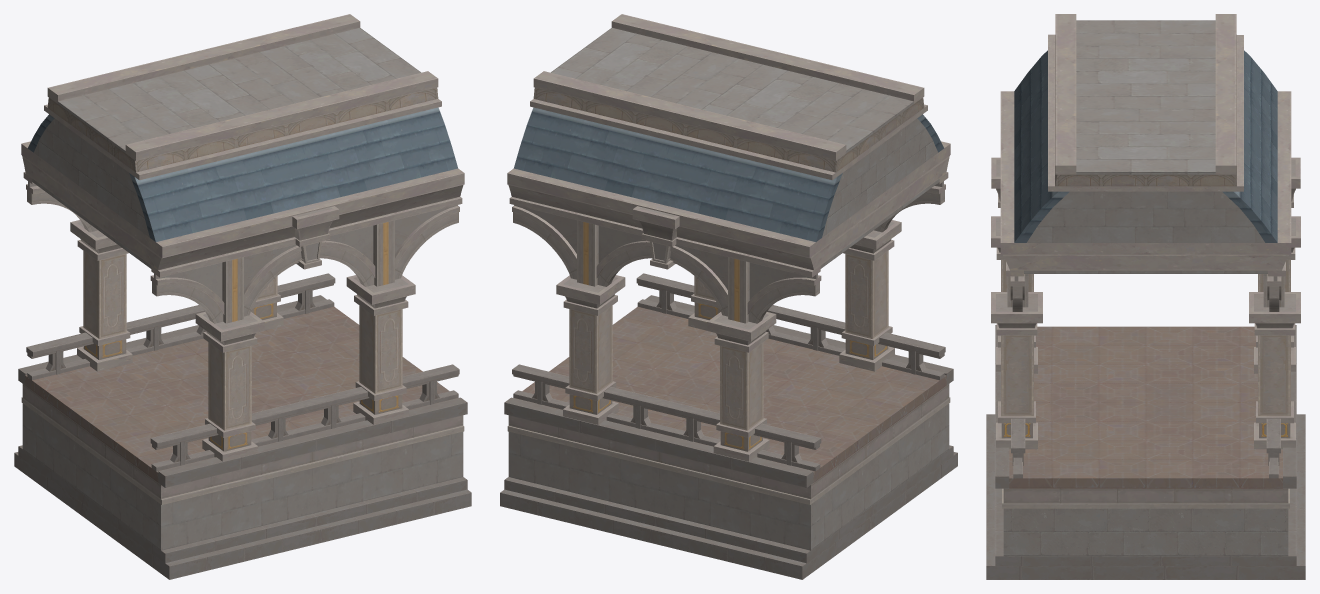
The model's file is Homeworld_Exterior_Fd_Build_House_02_Lod0.fbx.
3 views of the same model, side by side, from view 1: azimuth 30°, elevation 25°; view 2: azimuth 150°, elevation 25°; view 3: azimuth 270°, elevation 25° (orthographic). The views are drawn at different scales.
Visible parts, largest first — view 1: Homeworld_Exterior_Fd_Build_House_02_Lod0; view 2: Homeworld_Exterior_Fd_Build_House_02_Lod0; view 3: Homeworld_Exterior_Fd_Build_House_02_Lod0.
Boxes of the visible parts, bbox=[...] form: Homeworld_Exterior_Fd_Build_House_02_Lod0: bbox=[14, 14, 471, 579]; Homeworld_Exterior_Fd_Build_House_02_Lod0: bbox=[500, 14, 957, 579]; Homeworld_Exterior_Fd_Build_House_02_Lod0: bbox=[986, 14, 1305, 579].
Size of what is drawn, in the model's own units: 7.07 by 9.01 by 6.29.
